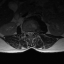CCS_normal: (29, 29, 31, 38)
LFS_stenosis: (34, 28, 36, 35)
LLS_normal: (31, 29, 34, 37)
RFS_normal: (25, 29, 27, 36)
RLS_normal: (27, 29, 29, 37)
